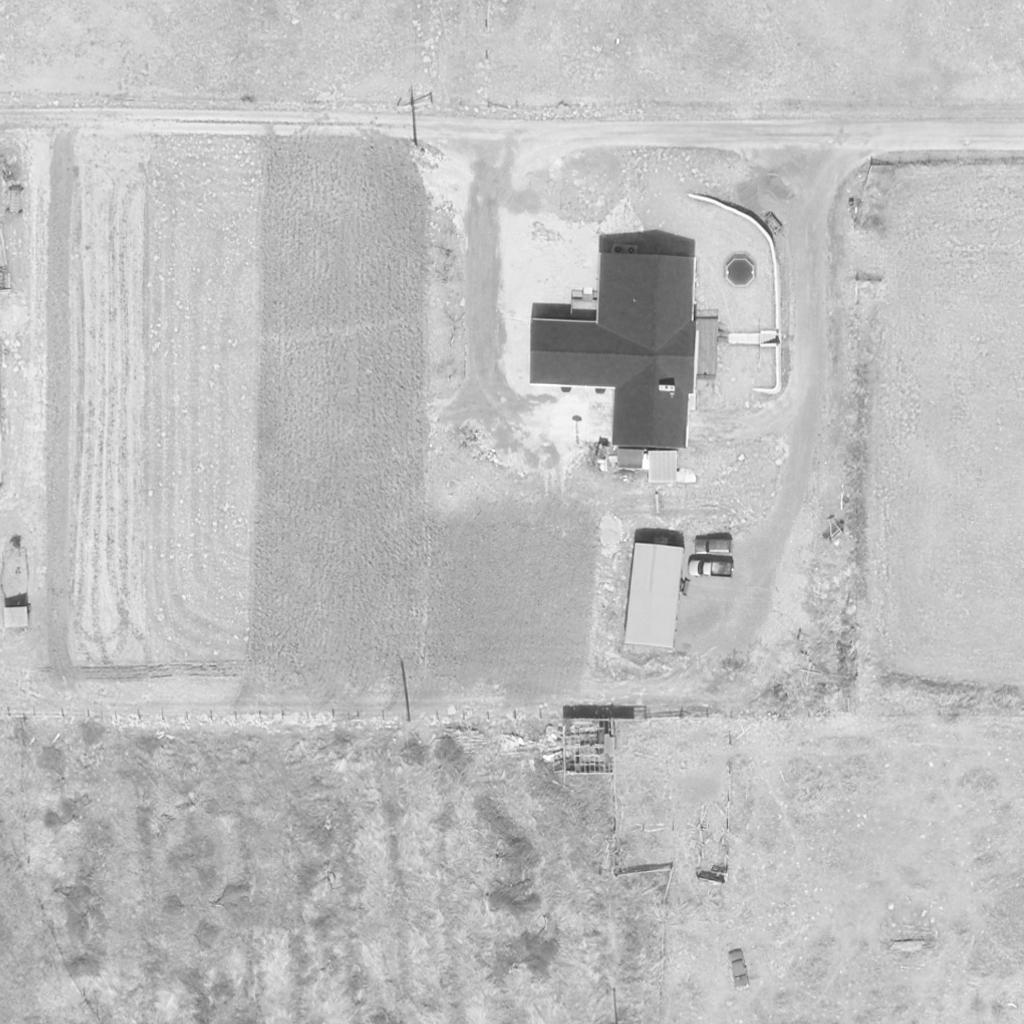vehicle: (688, 554, 736, 580), (694, 538, 734, 554)
